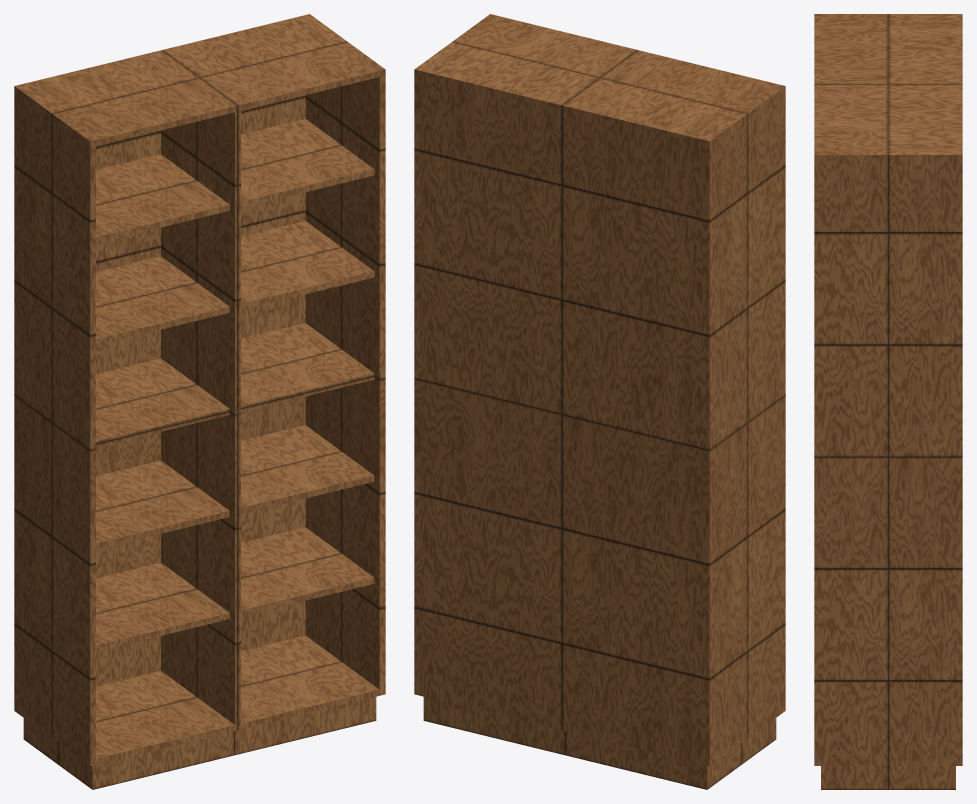
Rendered from Konyvespolc.obj.
3 views of the same model, side by side, from view 1: azimuth 30°, elevation 25°; view 2: azimuth 150°, elevation 25°; view 3: azimuth 270°, elevation 25° (orthographic). The views are drawn at different scales.
Bounding box in the file's own units: 0.9 × 1.9 × 0.4.
1 material, 1 textured.
